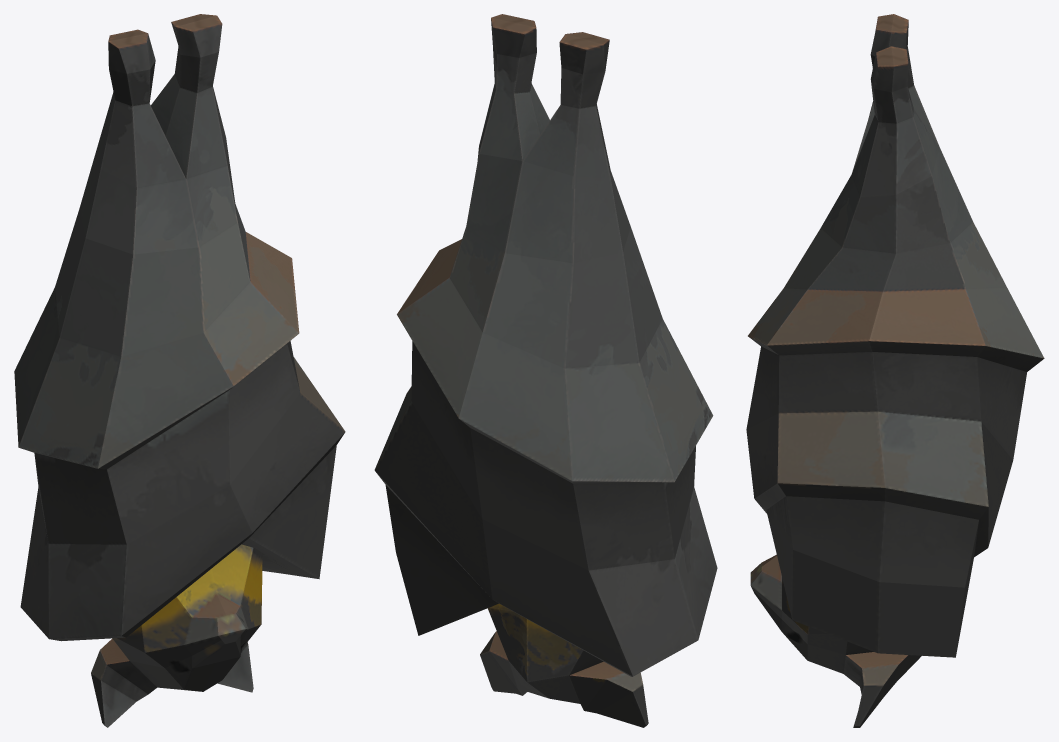
Rendered from GoldenCrownedFlyingFox.fbx.
The picture shows the model from 3 angles, left to right: view 1: azimuth 30°, elevation 25°; view 2: azimuth 150°, elevation 25°; view 3: azimuth 270°, elevation 25°; orthographic projection. The views are drawn at different scales.
Parts seen in each view (by area): view 1: GoldenCrownedFlyingFox; view 2: GoldenCrownedFlyingFox; view 3: GoldenCrownedFlyingFox.
Part boxes in pixels (x1,y1,x2,y2): GoldenCrownedFlyingFox: (14, 14, 345, 727); GoldenCrownedFlyingFox: (374, 14, 717, 727); GoldenCrownedFlyingFox: (746, 14, 1044, 727).
Size of the model in its own units: 41.08 by 95.51 by 39.41.
